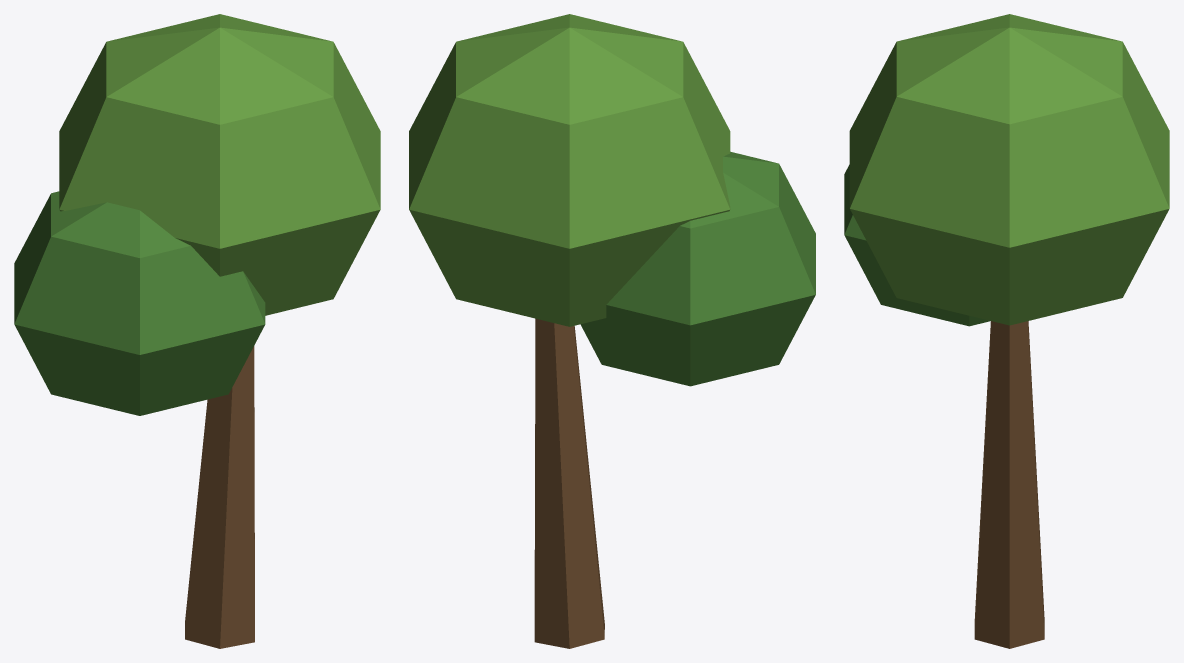
The model's file is tree_oak_lod1.obj.
The picture shows the model from 3 angles, left to right: view 1: azimuth 30°, elevation 25°; view 2: azimuth 150°, elevation 25°; view 3: azimuth 270°, elevation 25°; orthographic projection.
Visible parts, largest first — view 1: tree_oak_lod1; view 2: tree_oak_lod1; view 3: tree_oak_lod1.
Part boxes in pixels (<box>): tree_oak_lod1: <box>14,14,380,648</box>; tree_oak_lod1: <box>409,14,815,648</box>; tree_oak_lod1: <box>844,14,1169,648</box>.
Bounding box in the file's own units: 3.85 × 5.78 × 2.82.
Materials: 1 (1 with a texture image).
